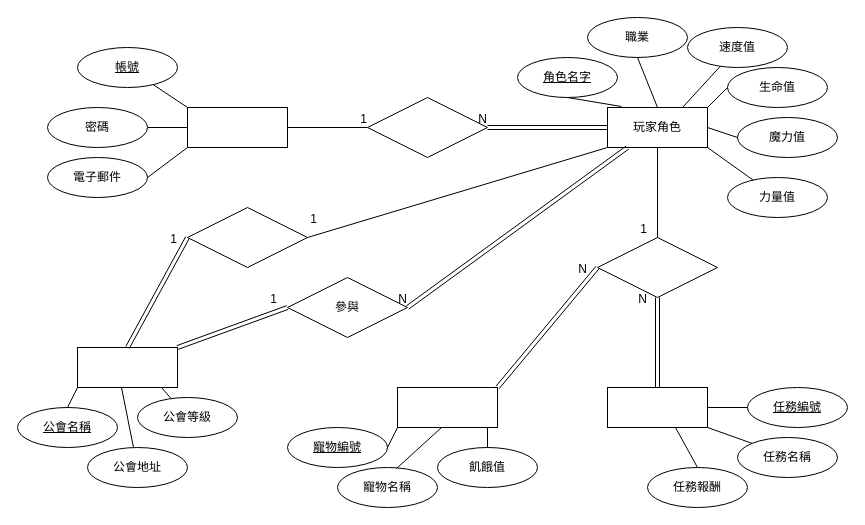
Image size: 865x525. Some labels were removed from this diagram. Here are the shapes that lost their labels. From the top down, the centre of each, then its label:
(x=237, y=127): 帳戶
(x=427, y=127): 建立
(x=247, y=237): 管理
(x=657, y=267): 擁有
(x=127, y=367): 公會
(x=447, y=407): 寵物
(x=657, y=407): 任務
